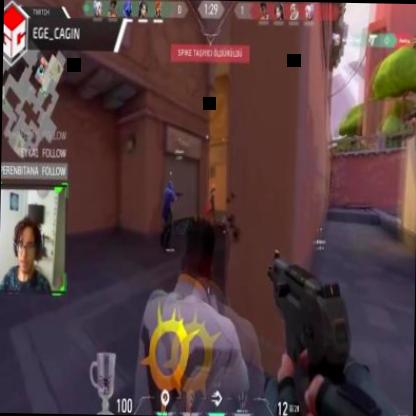enemy: (208, 182, 216, 224)
enemy_head: (212, 182, 215, 191)
